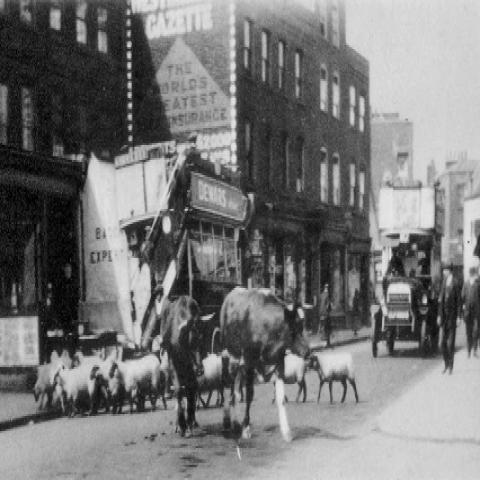truck: (366, 179, 448, 359)
